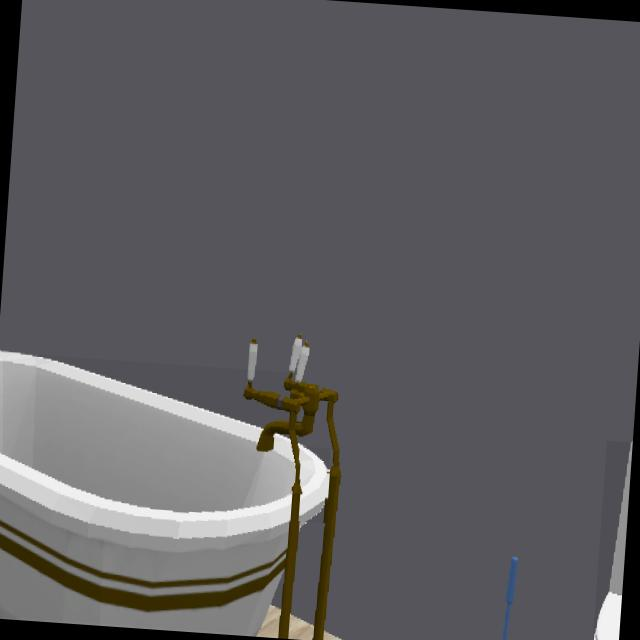bathtube: (0, 353, 294, 634), (299, 446, 327, 521)
toilet: (595, 447, 631, 640)
